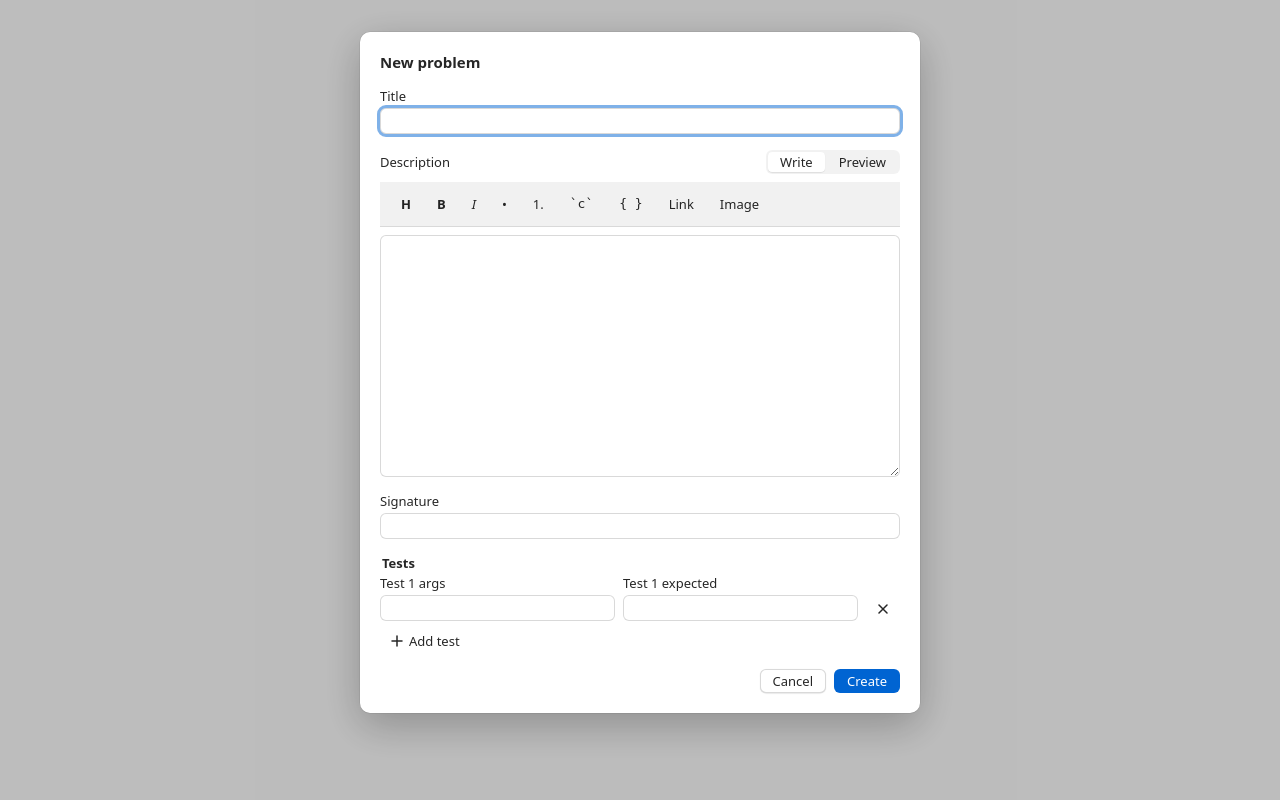
Test: ProblemEditorSheet › adds and removes test rows
Click the button "Add test" at (424, 641), box [380, 629, 469, 653]
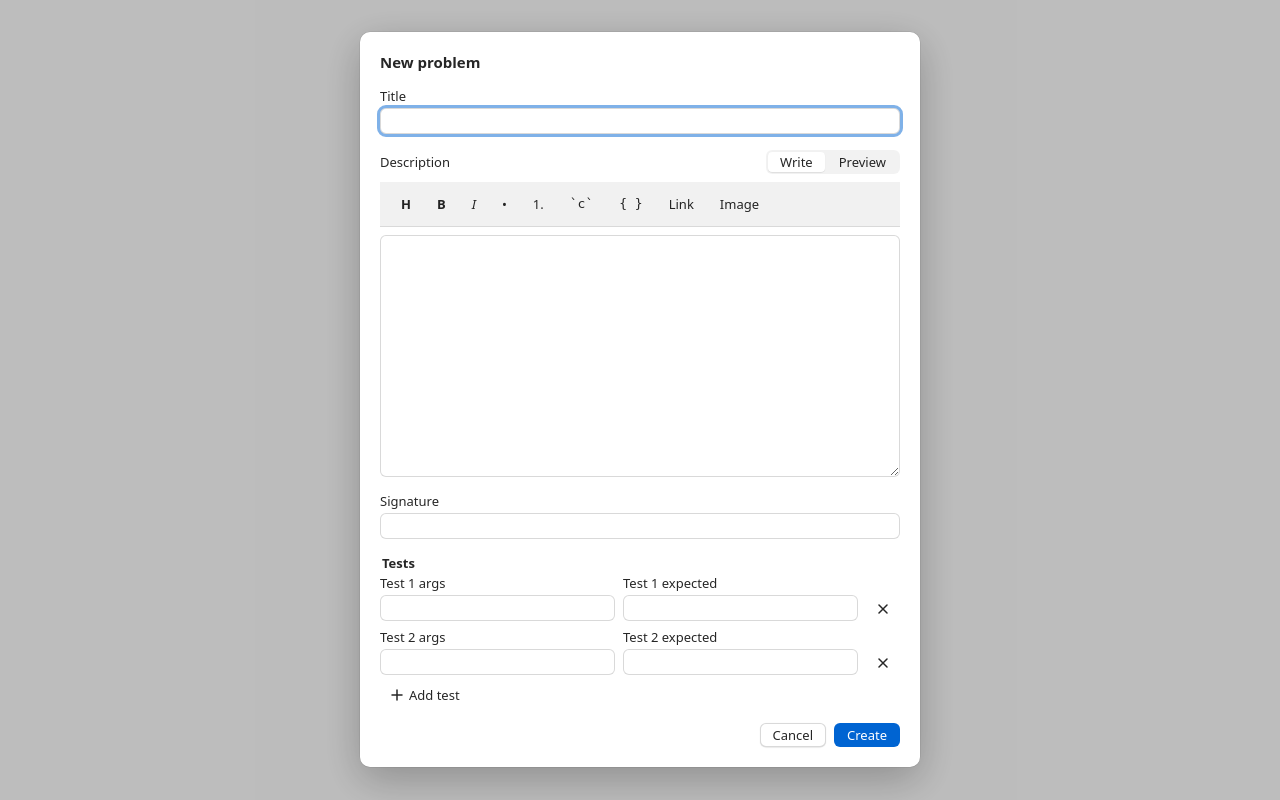
Expected: the field labelled "Test 2 args" is shown, [380, 649, 615, 675]
Click the button named "Remove test 2" at (883, 663), box [866, 651, 900, 675]
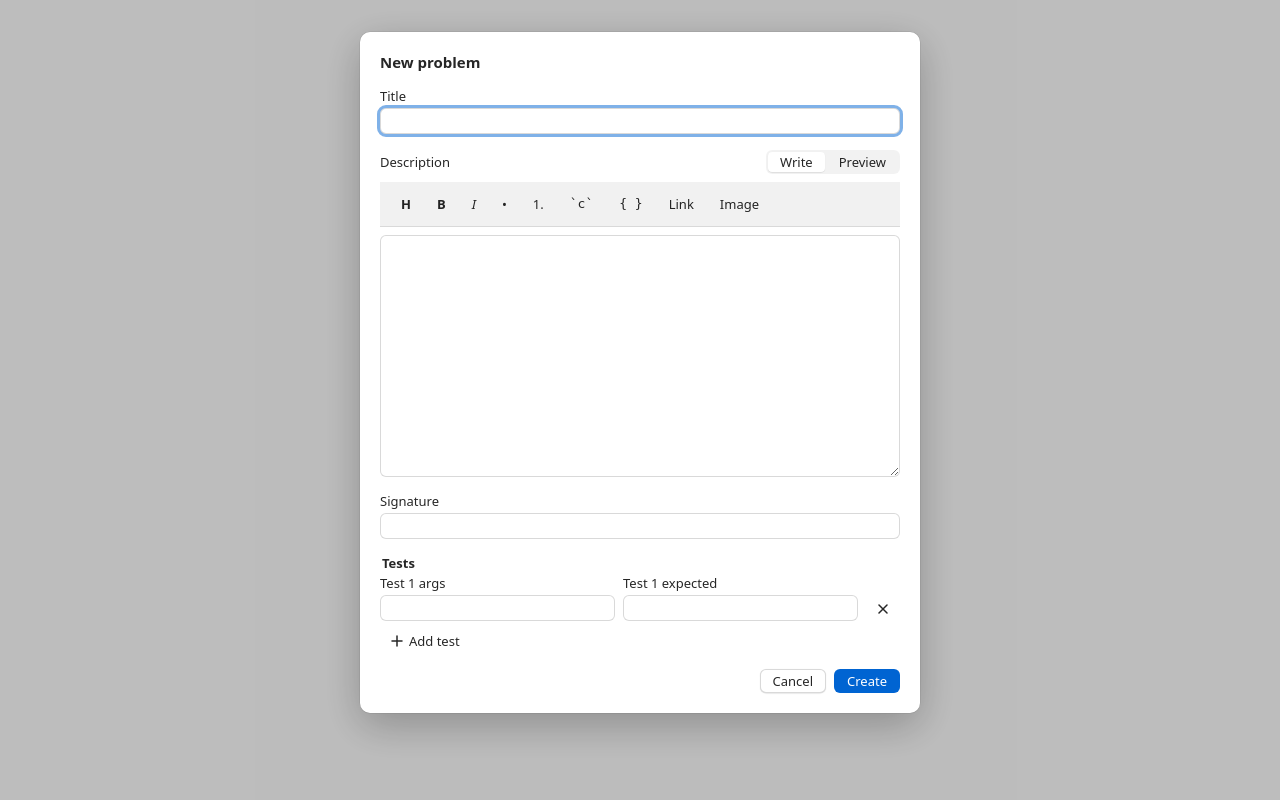
Expected: the label labelled "Test 2 args" is gone
